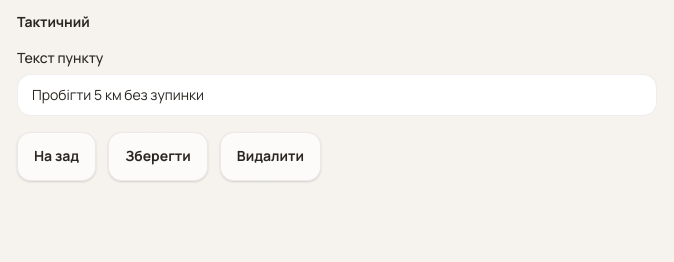
CH-02: збій видалення показує помилку і лишає користувача в редакторі
This screenshot has width=674, height=262.
Step 1. Click the button "Видалити" → coordinates (270, 156), box x1=220 y1=132 x2=321 y2=181
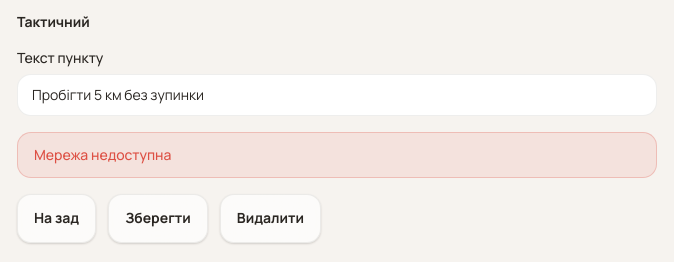
Expected: the text "Мережа недоступна" is shown, x1=17 y1=132 x2=657 y2=178
